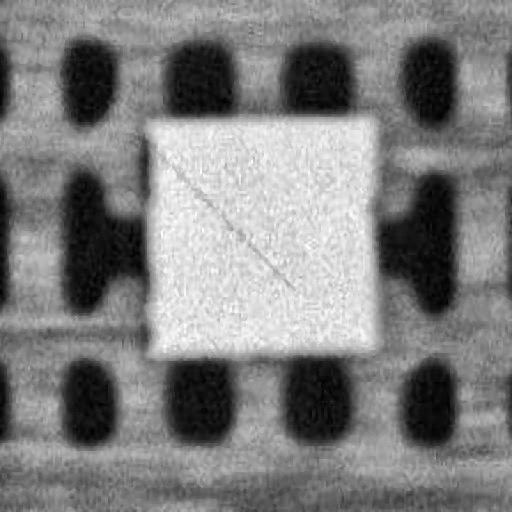DIE_CRACK: (228, 98, 438, 192)
